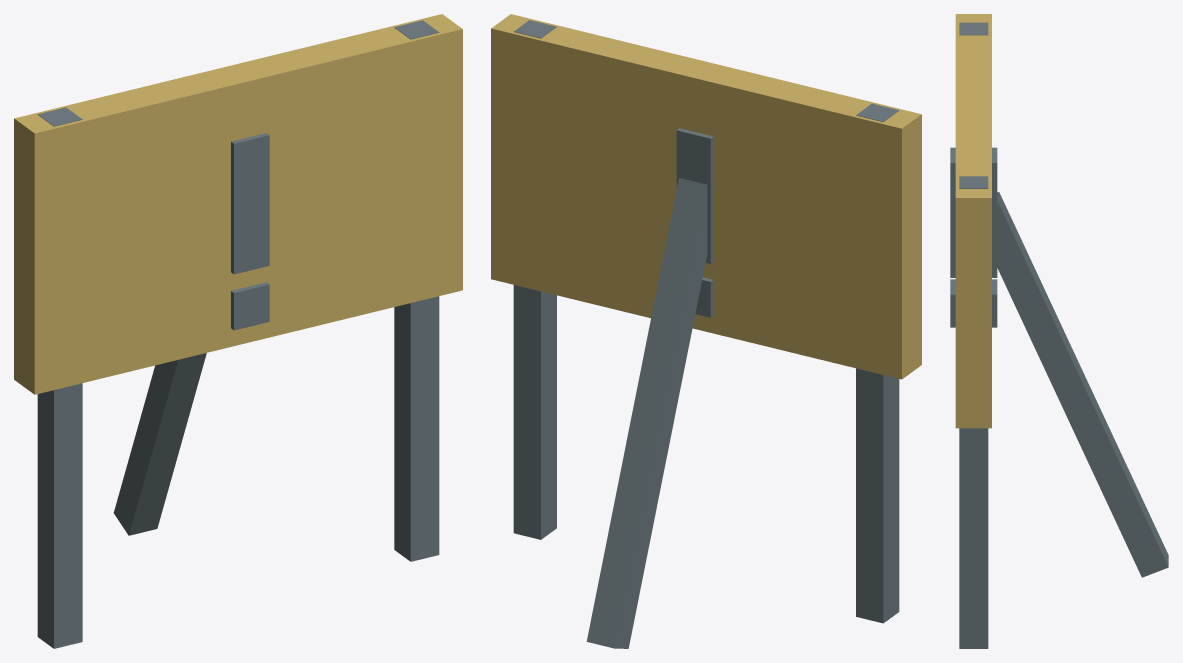
The model's file is warning-sign-tripod.glb.
3 views of the same model, side by side, from view 1: azimuth 30°, elevation 25°; view 2: azimuth 150°, elevation 25°; view 3: azimuth 270°, elevation 25° (orthographic). The views are drawn at different scales.
Parts seen in each view (by area): view 1: warning-sign-tripod; view 2: warning-sign-tripod; view 3: warning-sign-tripod.
Boxes of the visible parts, left/top/right/bottom form: warning-sign-tripod: left=14, top=14, right=462, bottom=648; warning-sign-tripod: left=491, top=14, right=921, bottom=648; warning-sign-tripod: left=950, top=14, right=1168, bottom=648.
Bounding box in the file's own units: 1.2 × 1.42 × 0.6019.
